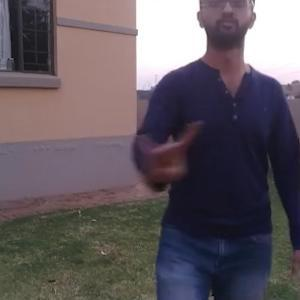takeoff-hand: (136, 116, 200, 187)
